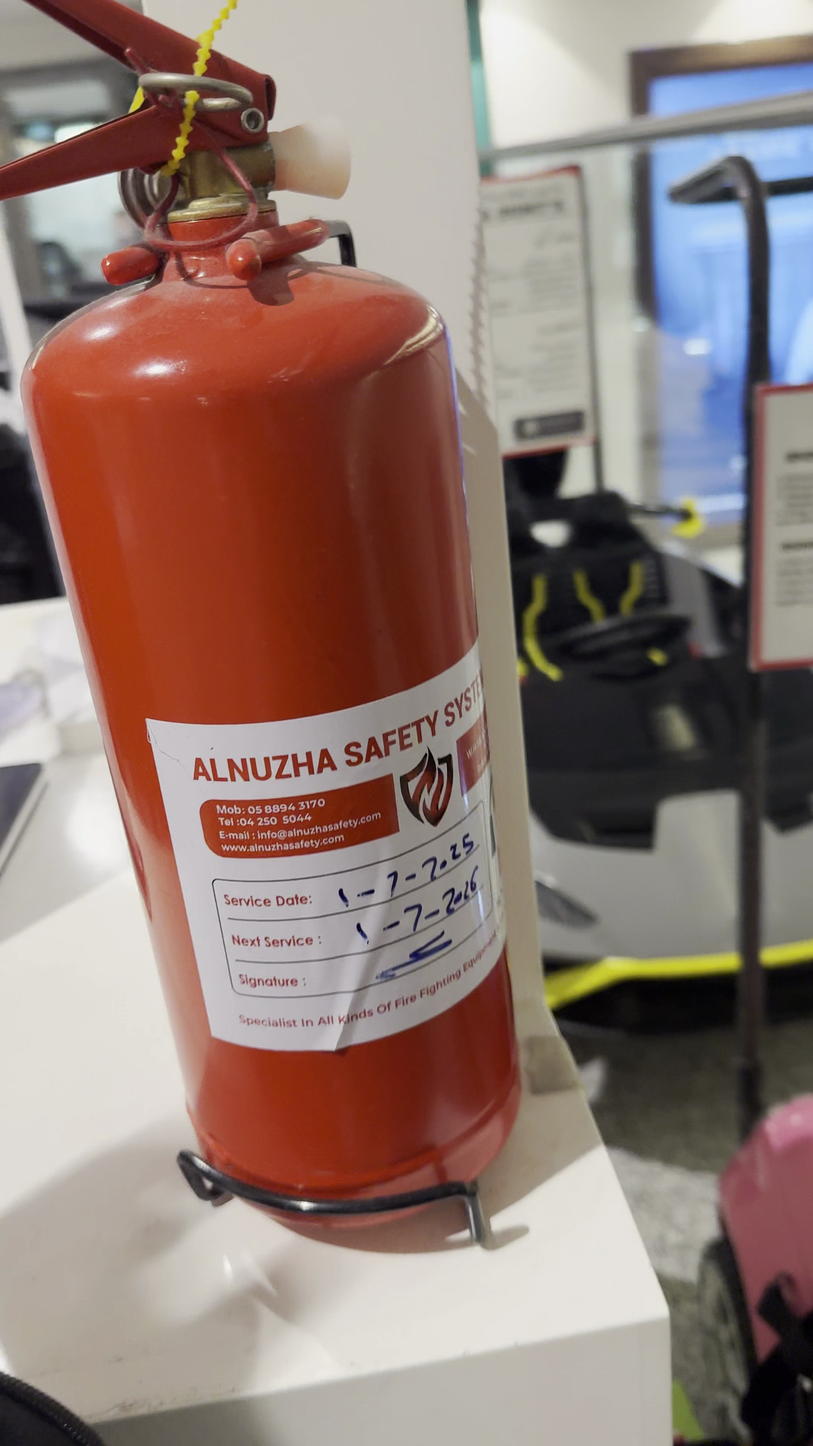fire_extinguisher: (2, 2, 527, 1250)
